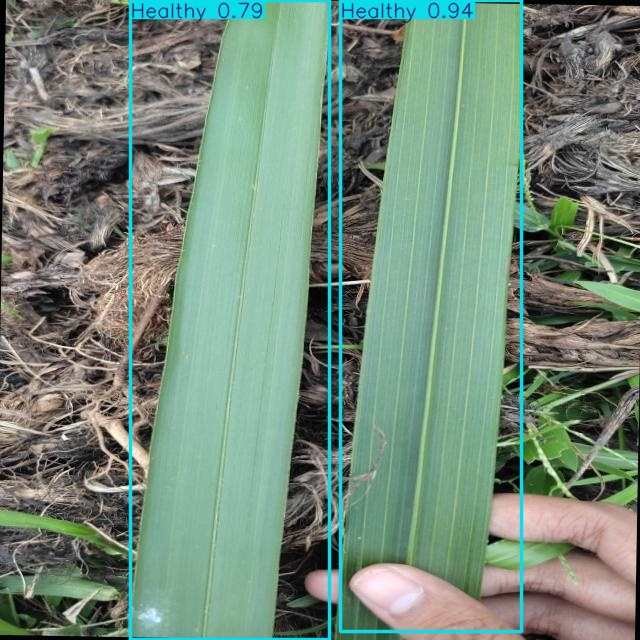Healthy: (130, 0, 329, 640), (340, 1, 522, 631)
